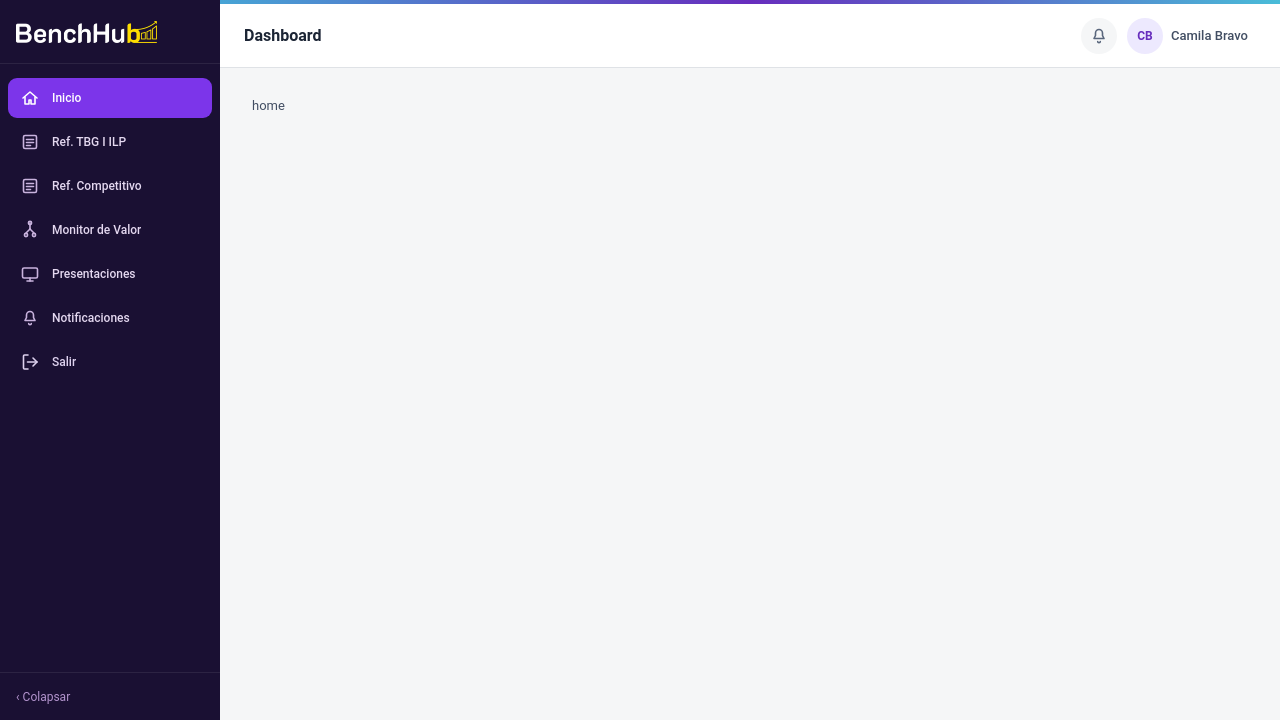
Test: AppShell header › opens Configuración from the avatar and name
What coordinates should you click on to do the following:
click the link "CB Camila Bravo"
I would click on:
 (1191, 36)
Its box is [1127, 18, 1256, 54].
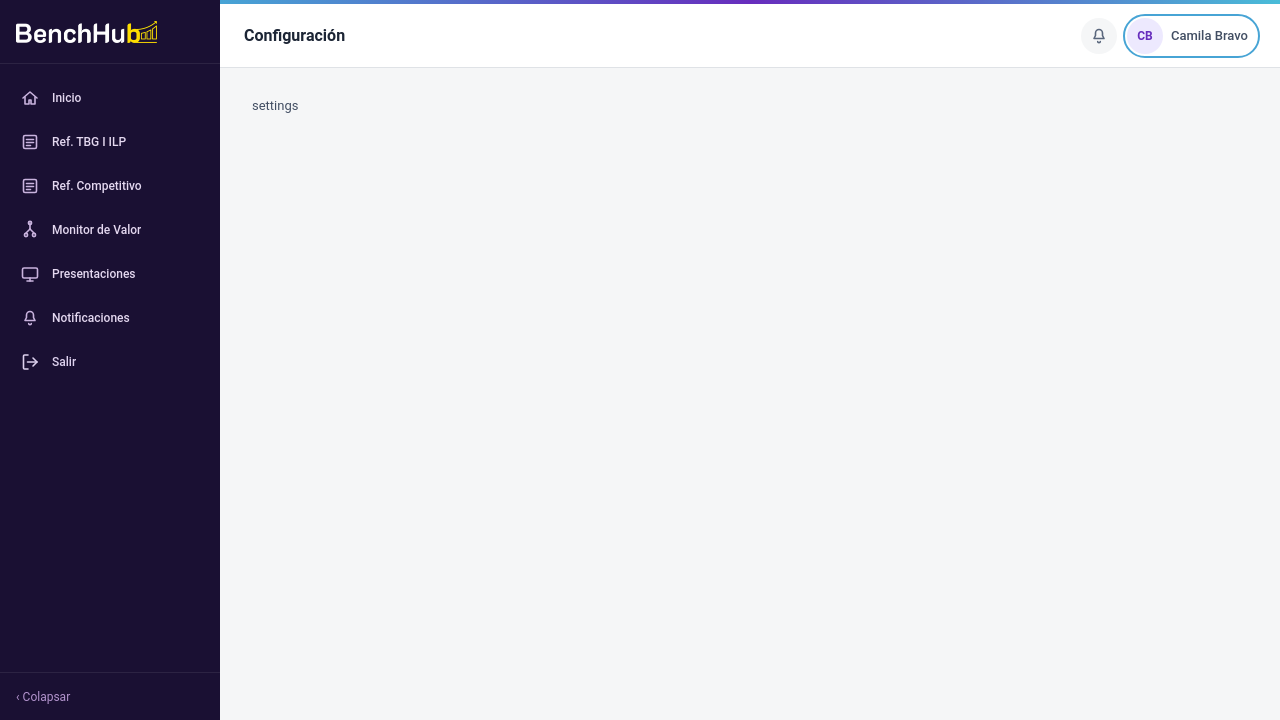
Expected: the heading reads "Configuración", [244, 26, 345, 44]
